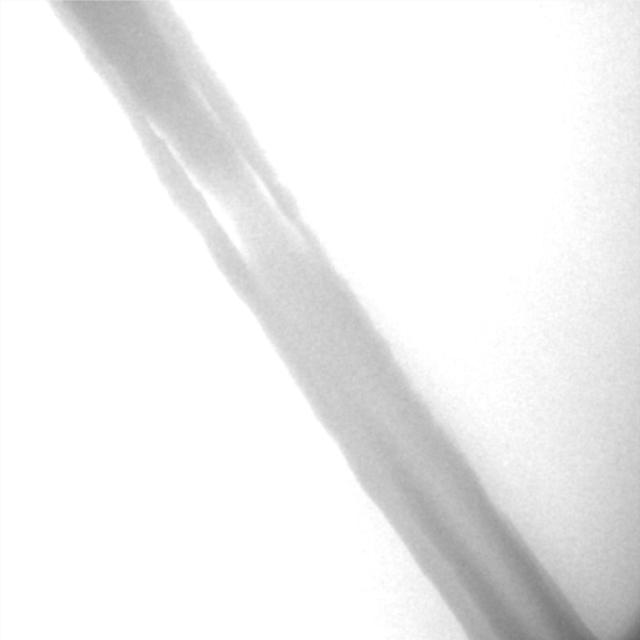unfused: (147, 86, 303, 270)
